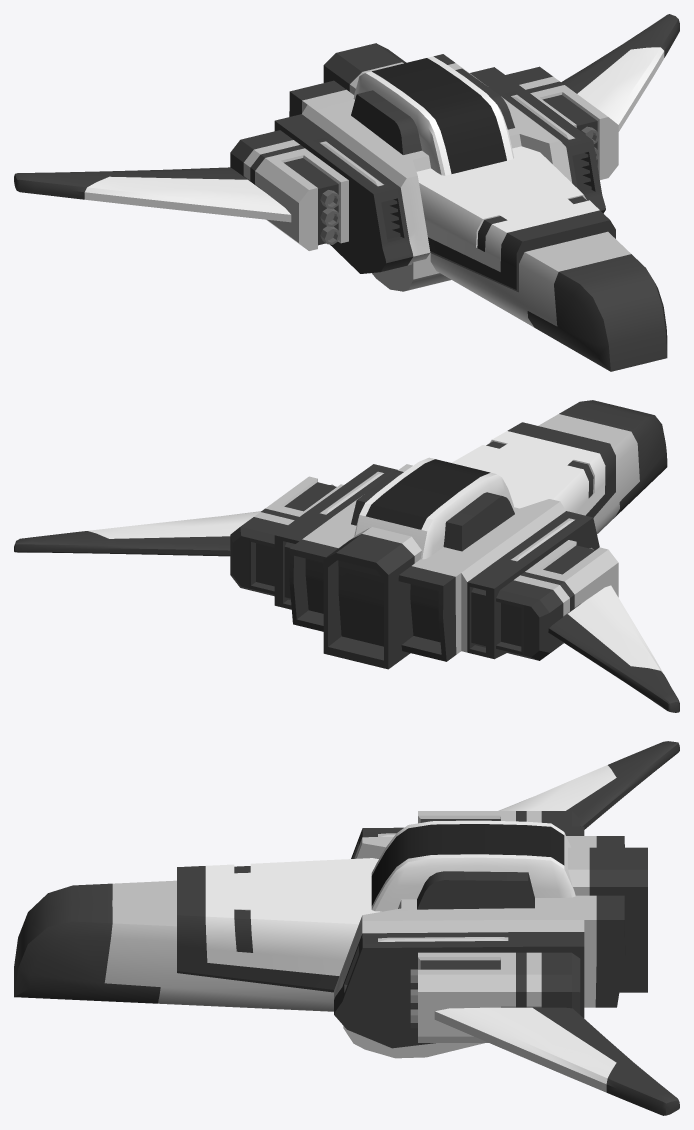
File: Spaceship_6.glb
3 renders of one model, top to bottom at view 1: azimuth 30°, elevation 25°; view 2: azimuth 150°, elevation 25°; view 3: azimuth 270°, elevation 25°, orthographic. The views are drawn at different scales.
Parts seen in each view (by area): view 1: Spaceship_FernandoTheFlamingo; view 2: Spaceship_FernandoTheFlamingo; view 3: Spaceship_FernandoTheFlamingo.
Boxes of the visible parts, <box> form: Spaceship_FernandoTheFlamingo: <box>14,14,679,371</box>; Spaceship_FernandoTheFlamingo: <box>14,400,679,712</box>; Spaceship_FernandoTheFlamingo: <box>14,741,679,1115</box>.
Size of the model in its own units: 11.14 by 2.53 by 8.66.
1 material, 1 textured.
